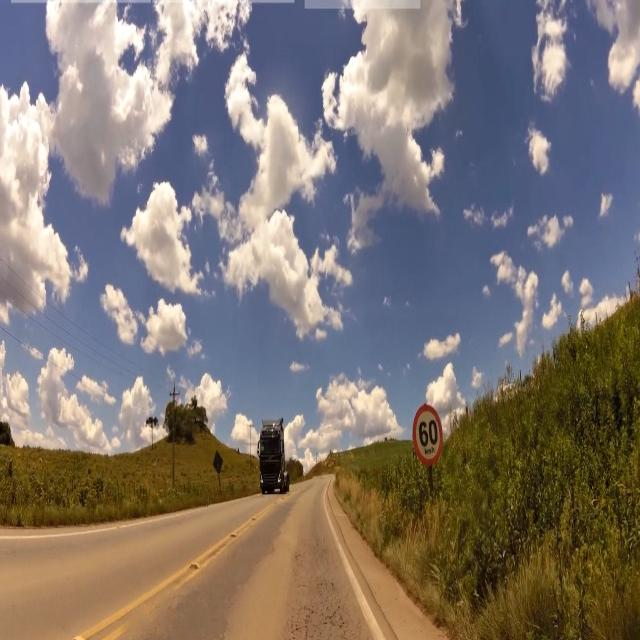R-19: (411, 406, 446, 468)
